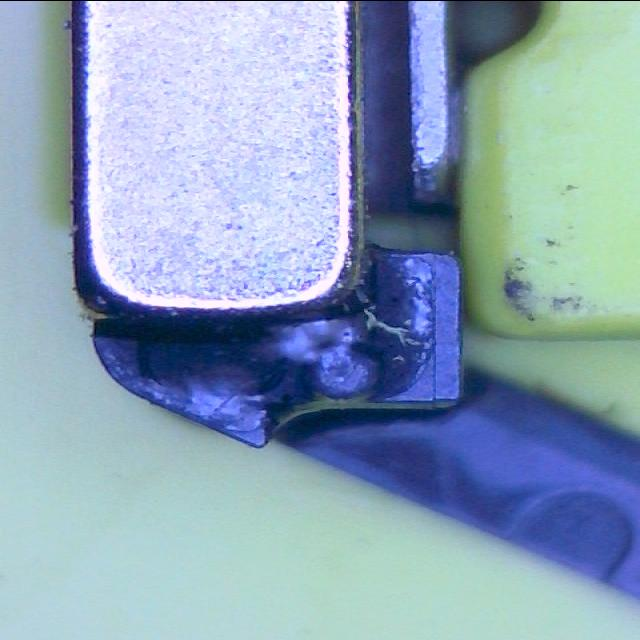over: (145, 306, 368, 398)
